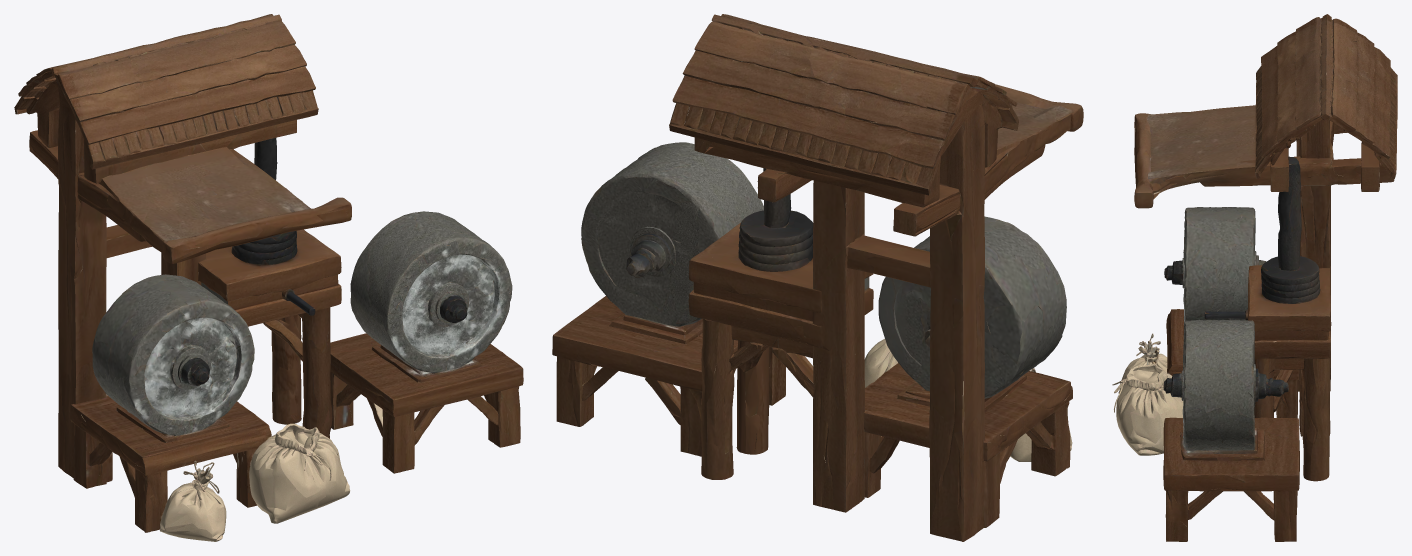
Rendered from gear-ratio-millstone-meshy.web.glb.
3 renders of one model, left to right at view 1: azimuth 30°, elevation 25°; view 2: azimuth 150°, elevation 25°; view 3: azimuth 270°, elevation 25°, orthographic. The views are drawn at different scales.
Visible parts, largest first — view 1: mesh_node; view 2: mesh_node; view 3: mesh_node.
Boxes of the visible parts, x1,y1,x2,y2 form: mesh_node: [14, 14, 523, 541]; mesh_node: [552, 14, 1083, 541]; mesh_node: [1112, 14, 1397, 541].
Bounding box in the file's own units: 1.9 × 1.9 × 1.36.
1 material, 1 textured.
